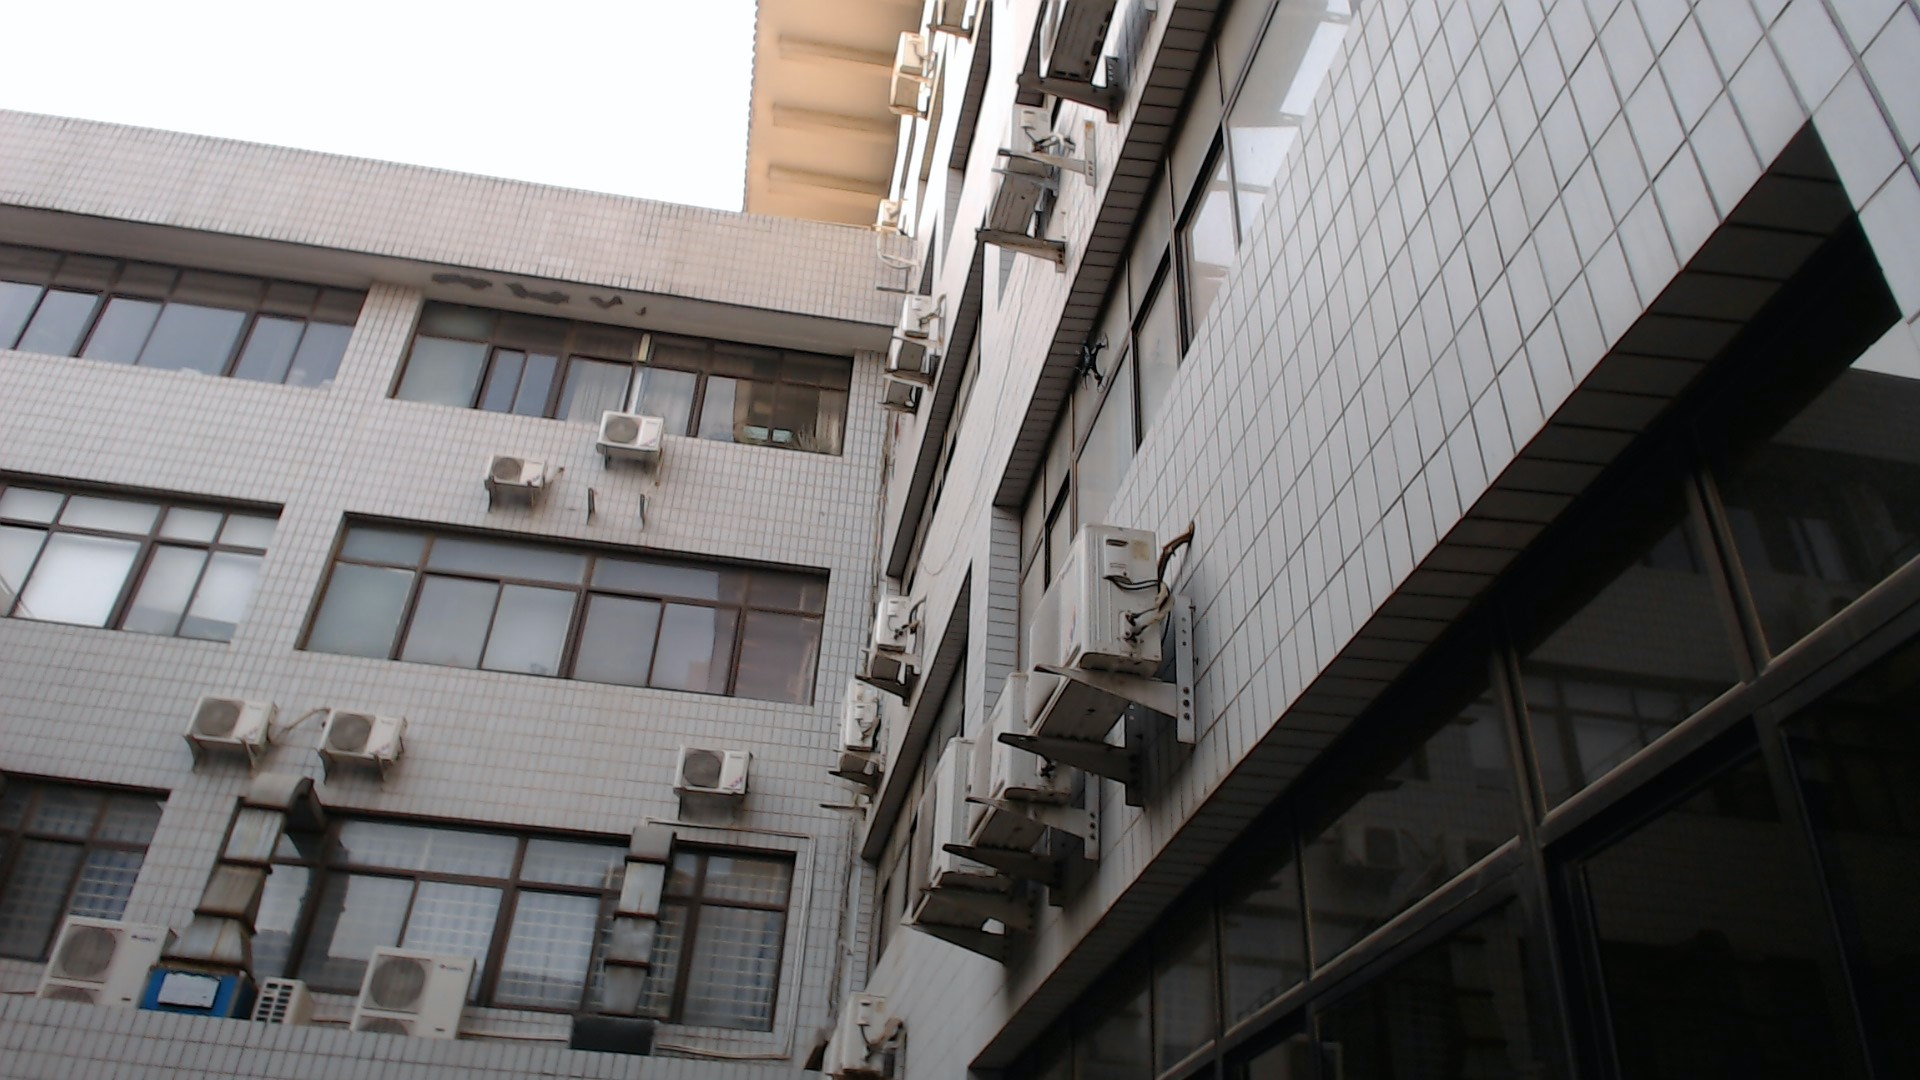drone: (1068, 330, 1112, 396)
